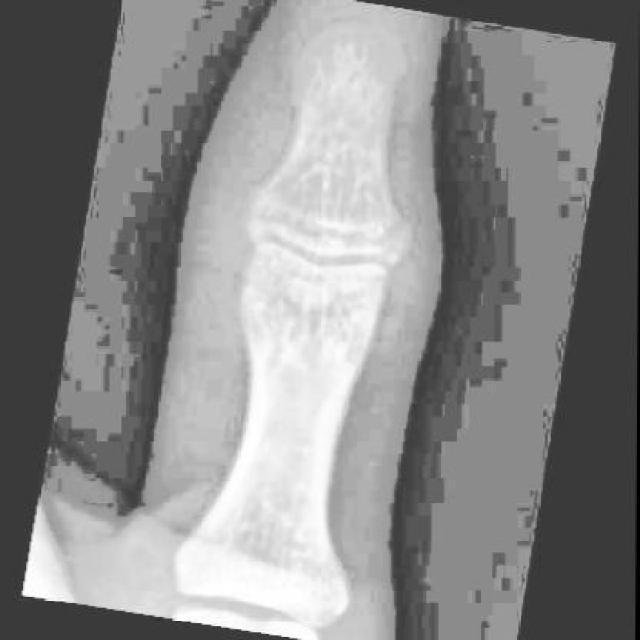Fracture: (365, 205, 416, 264)
